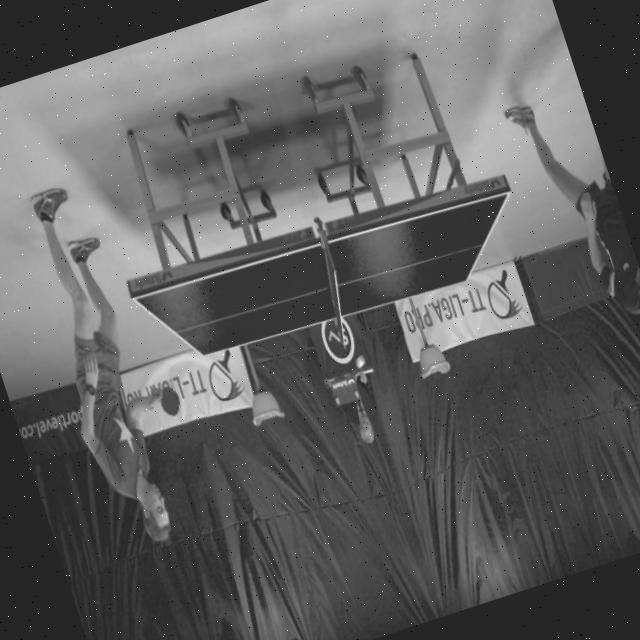ping-pong-ball: (352, 353, 368, 372)
